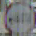Heavy Vehicles: (2, 2, 35, 32)
